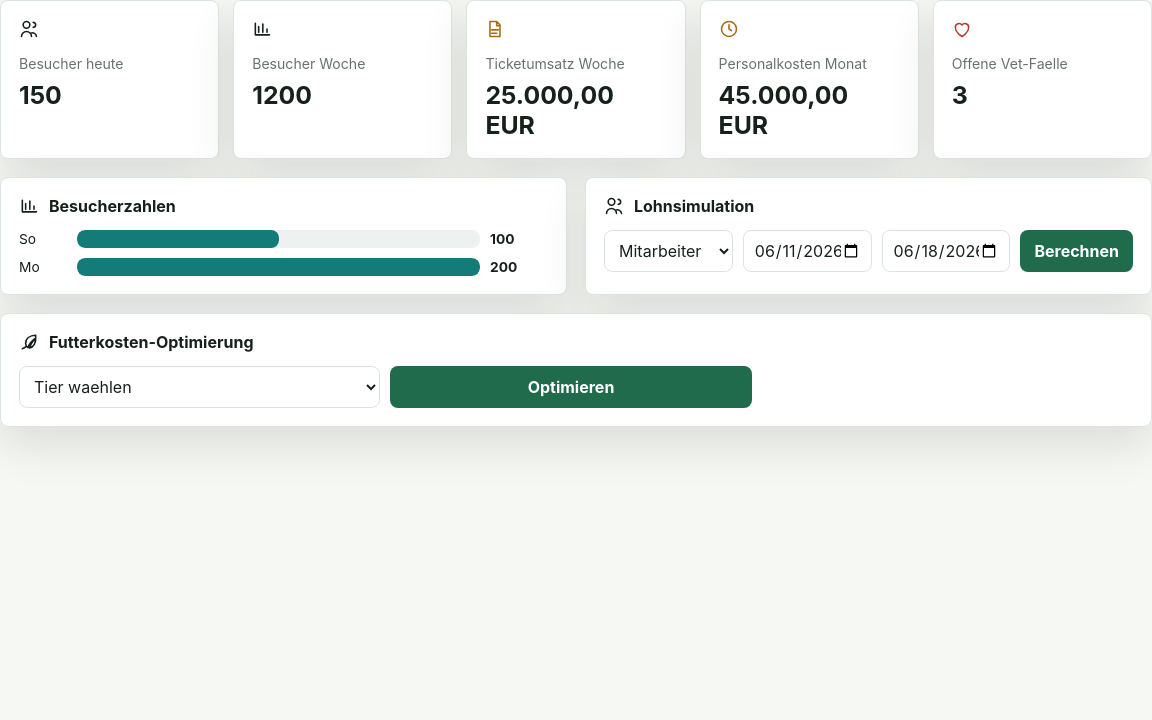
Test: EconomyView › submits salary simulation and displays results
Select "John Doe" in the dropdown below "Lohnsimulation" at (668, 251), box [604,230,733,272]
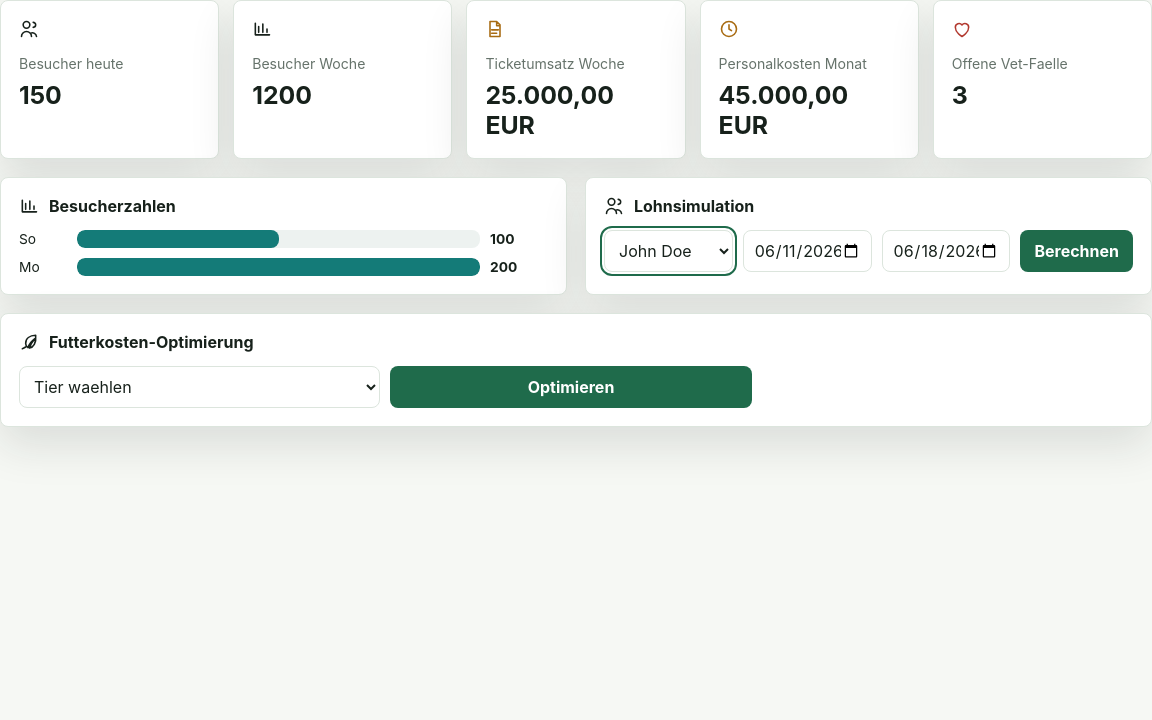
Type "2023-11-01" into the date field named "Startdatum".
click(807, 251); type("2023-11-01")  # box [743,230,872,272]
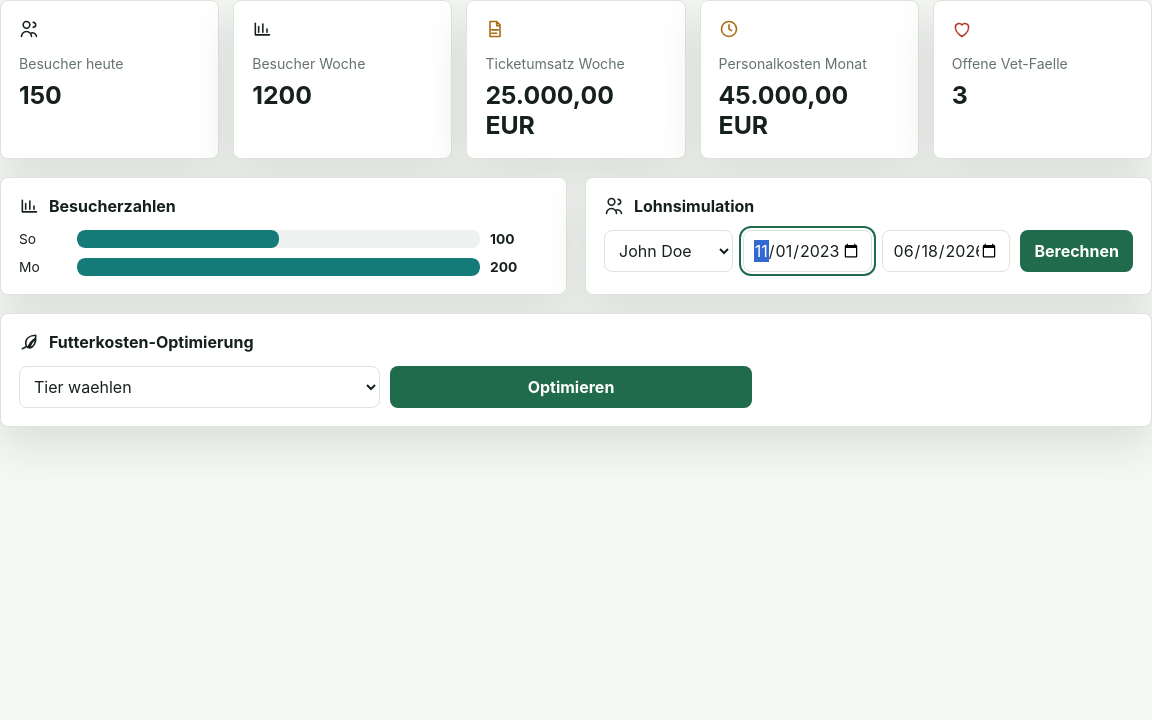
Type "2023-11-30" into the date field named "Enddatum".
click(946, 251); type("2023-11-30")  # box [882,230,1010,272]
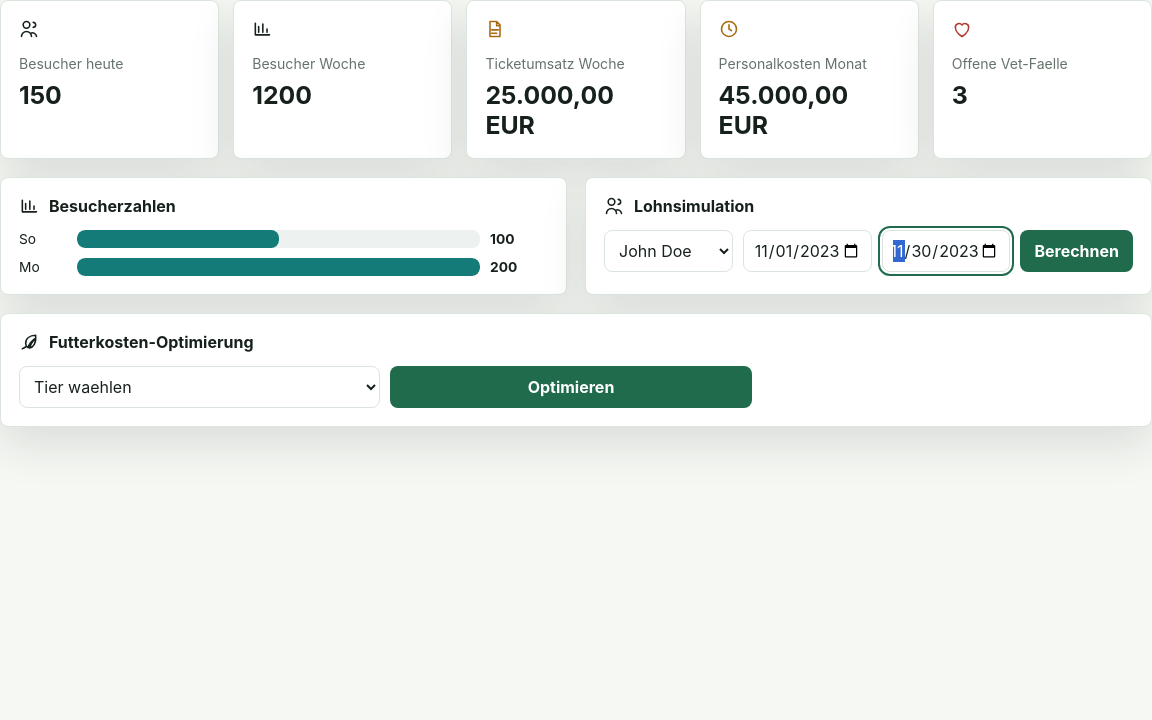
Click the button "Berechnen".
click(1077, 251)  # box [1020,230,1133,272]
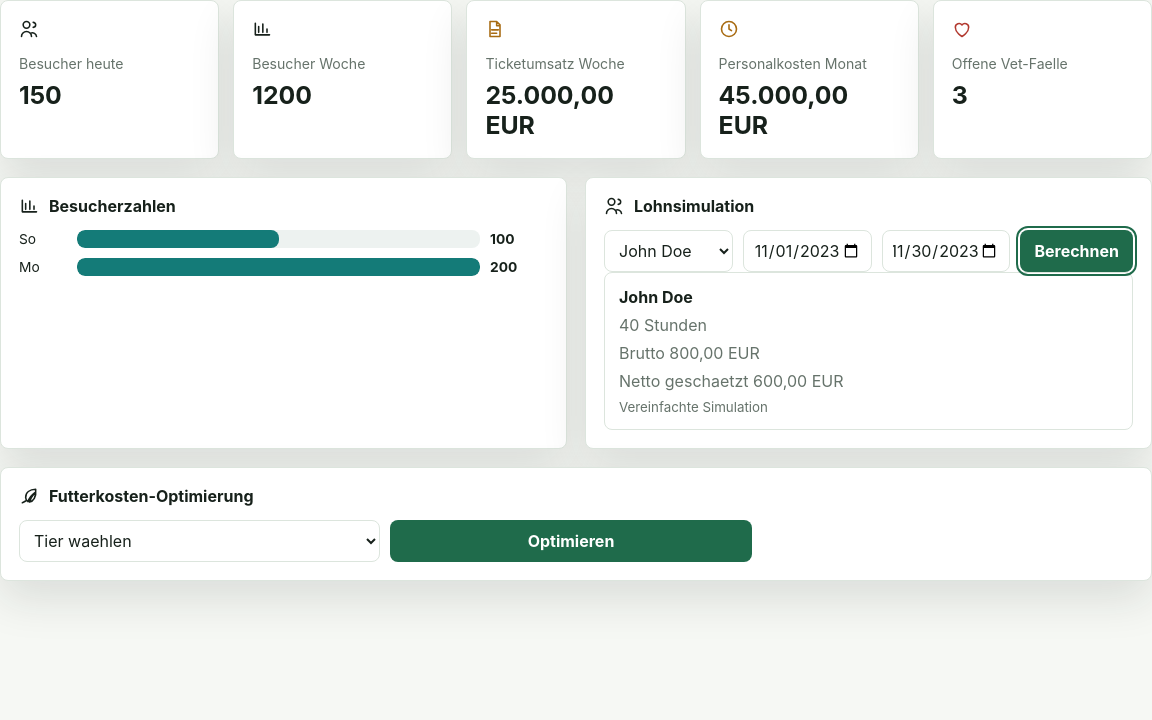
Now the text "40 Stunden" is shown, box [619,315,707,335]
Now the text "Brutto 800,00 EUR" is shown, box [619,343,760,363]
Now the text "Netto geschaetzt 600,00 EUR" is shown, box [619,371,844,391]
